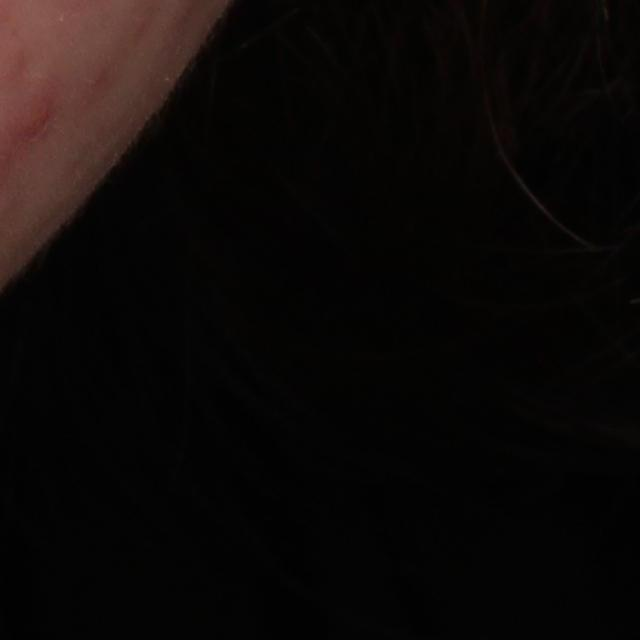papule: (12, 89, 58, 141)
